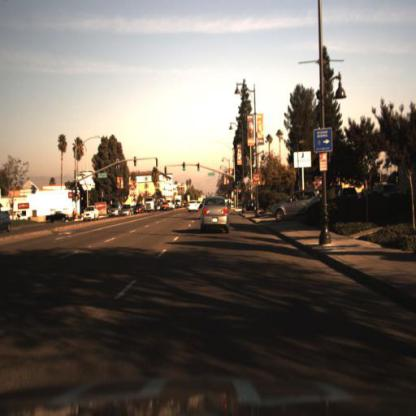car: (270, 189, 320, 225), (197, 192, 232, 236), (78, 200, 101, 226), (105, 198, 121, 223), (43, 206, 65, 222), (81, 206, 100, 222), (46, 208, 69, 221), (130, 198, 144, 217), (184, 195, 200, 211), (118, 203, 133, 218), (108, 201, 120, 217)
trafficLight-Green: (179, 160, 187, 174), (196, 163, 202, 175), (233, 176, 239, 188)
